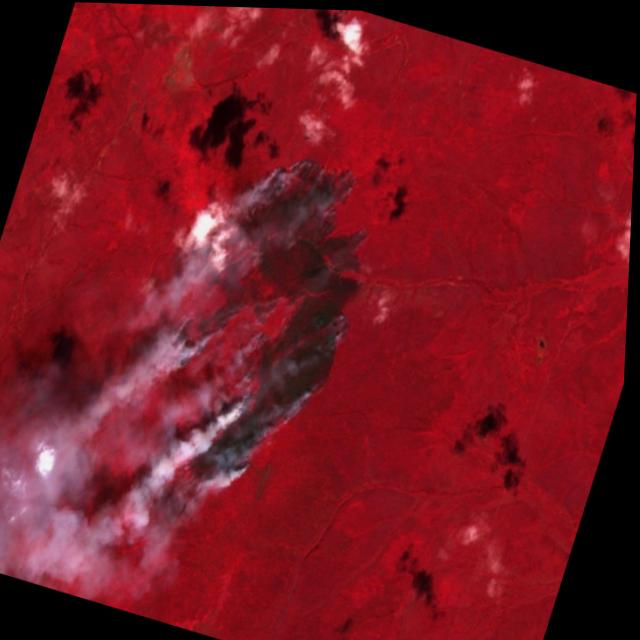fire: (140, 125, 404, 524)
